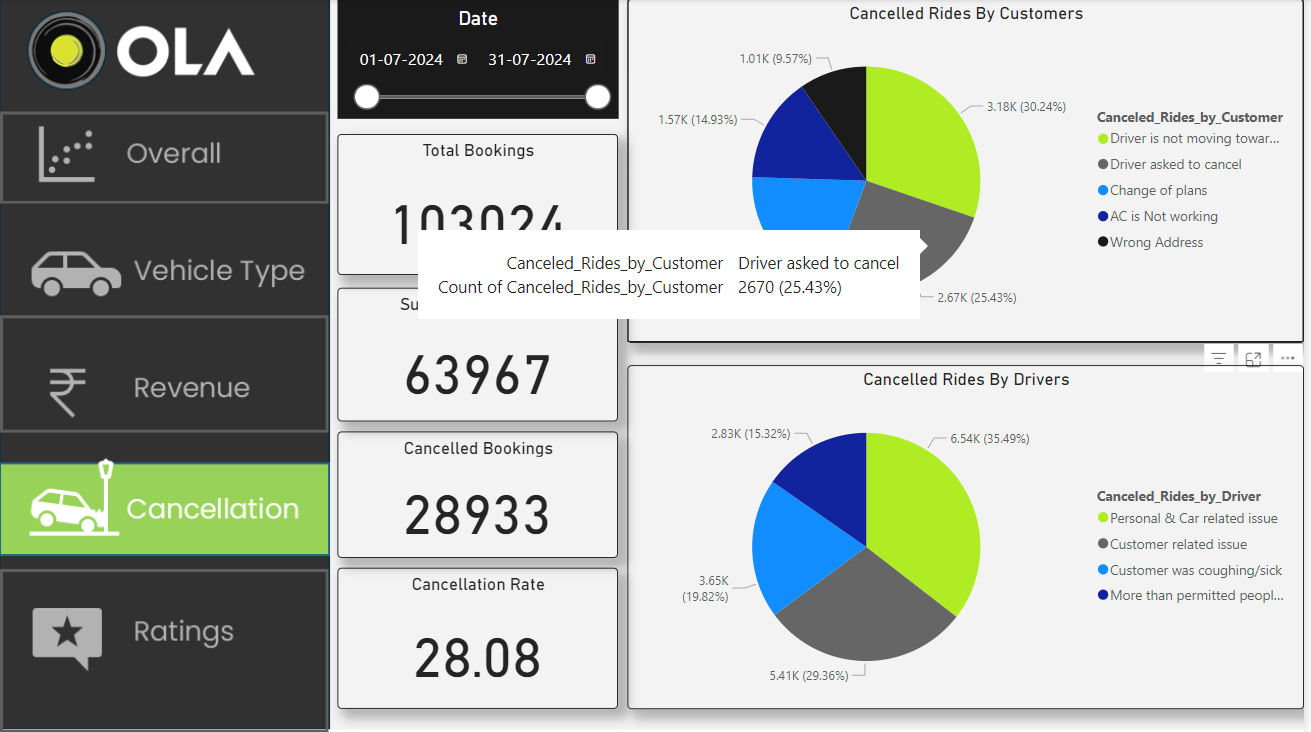

What the dashboard file says about the page in this screenshot:
{"tool":"powerbi","page":{"name":"Cancellation","canvas":[1280,720],"ordinal":3},"visuals":[{"type":"actionButton","box":[0,213.5,322.7,115.3],"z":0},{"type":"actionButton","box":[0,310.4,322.7,115.3],"z":1000},{"type":"actionButton","box":[0,559.3,322.7,160.7],"z":2000},{"type":"actionButton","box":[0,110.4,322.7,90.8],"z":3000},{"type":"pieChart","title":"Cancelled Rides By Customers","fields":{"Category":["July.Canceled_Rides_by_Customer"],"Y":["CountNonNull(July.Canceled_Rides_by_Customer)"]},"box":[616.2,0,663.8,337.5],"z":3001},{"type":"pieChart","title":"Cancelled Rides By Drivers","fields":{"Y":["CountNonNull(July.Canceled_Rides_by_Driver)"],"Category":["July.Canceled_Rides_by_Driver"]},"box":[616.2,360,663.8,337.5],"z":3002},{"type":"slicer","title":"Date","fields":{"Values":["July.Date"]},"box":[331.2,0,276.2,117.5],"z":3003},{"type":"card","title":"Total Bookings","fields":{"Values":["CountNonNull(July.Booking_ID)"]},"box":[331.2,132.5,275,138.8],"z":3004},{"type":"card","title":"Succeeded Bookings","fields":{"Values":["CountNonNull(July.Booking_ID)"]},"box":[331.2,283.8,275,131.2],"z":3005},{"type":"card","title":"Cancelled Bookings","fields":{"Values":["CountNonNull(July.Booking_ID)"]},"box":[331.2,425,275,123.8],"z":3006},{"type":"card","title":"Cancellation Rate","fields":{"Values":["July.CanceledPercentage"]},"box":[331.2,558.8,275,138.8],"z":3007}]}

Visuals, with their boxes in screenshot pixels (x1, y1, x2, y2), scaled from the page's 1280x720 canvas onto the 1311x732 screenshot:
actionButton: bbox=[0, 217, 331, 334]
actionButton: bbox=[0, 316, 331, 433]
actionButton: bbox=[0, 569, 331, 731]
actionButton: bbox=[0, 112, 331, 205]
"Cancelled Rides By Customers" pieChart: bbox=[631, 0, 1310, 343]
"Cancelled Rides By Drivers" pieChart: bbox=[631, 366, 1310, 709]
"Date" slicer: bbox=[339, 0, 622, 119]
"Total Bookings" card: bbox=[339, 135, 621, 276]
"Succeeded Bookings" card: bbox=[339, 289, 621, 422]
"Cancelled Bookings" card: bbox=[339, 432, 621, 558]
"Cancellation Rate" card: bbox=[339, 568, 621, 709]
